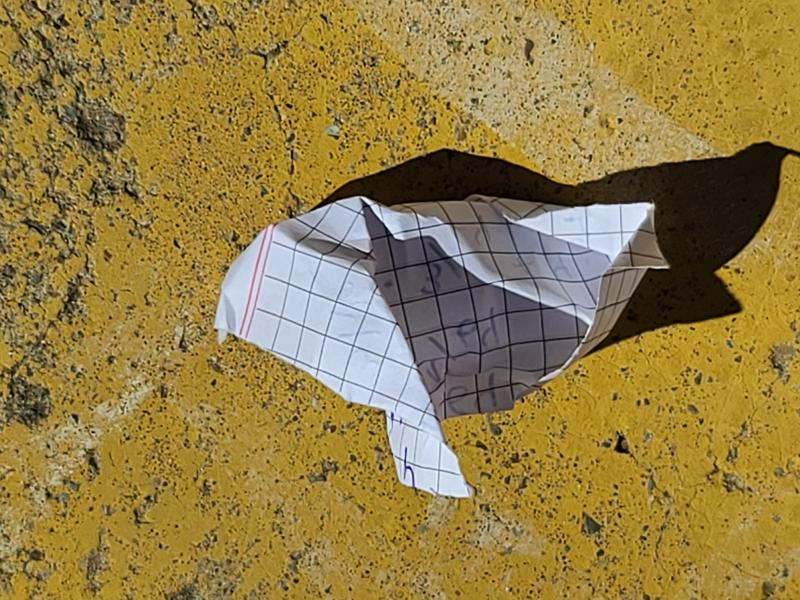papel: (213, 196, 670, 501)
